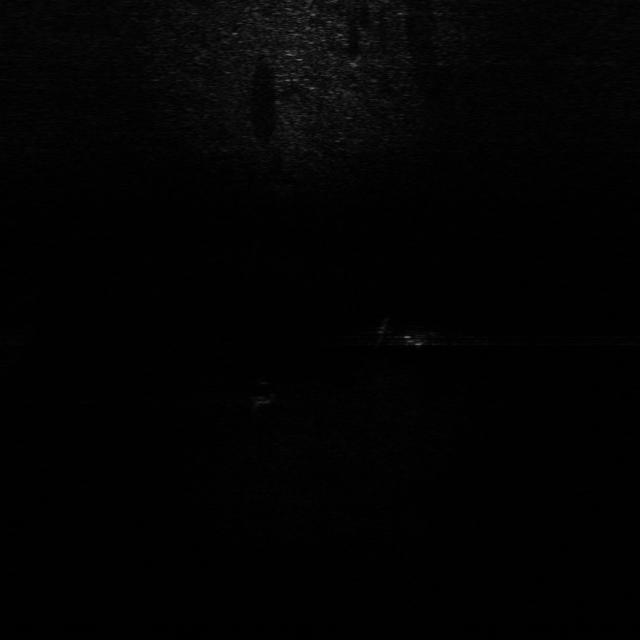ball: (240, 376, 282, 408)
human body: (363, 314, 457, 352)
